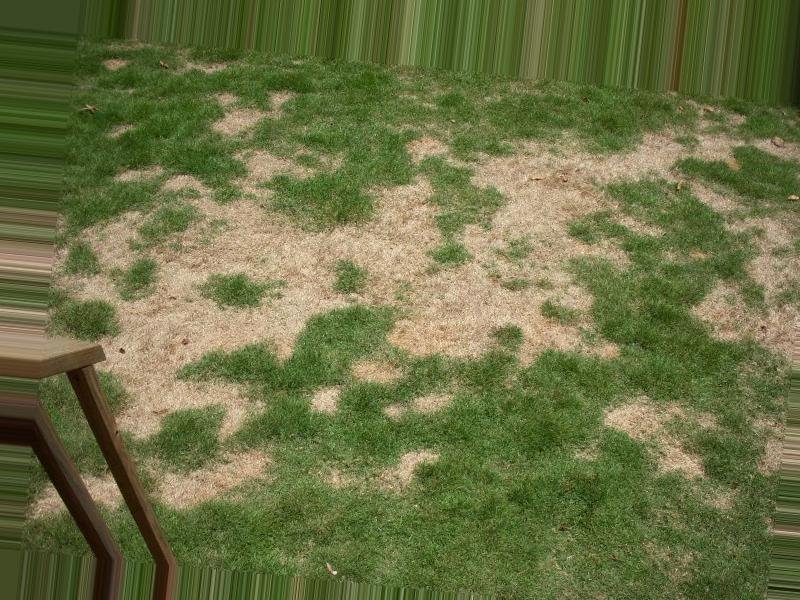patch: (431, 278, 495, 331), (224, 228, 300, 267), (143, 302, 213, 343), (321, 236, 404, 270), (130, 363, 201, 402), (524, 181, 574, 223), (393, 187, 439, 229), (243, 302, 293, 336), (516, 289, 550, 331), (106, 228, 145, 263), (493, 151, 518, 189), (172, 257, 197, 290)
